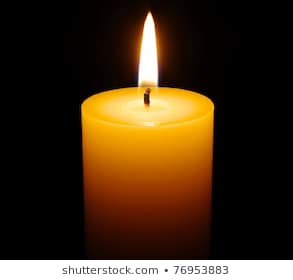Fire: (137, 8, 164, 97)
